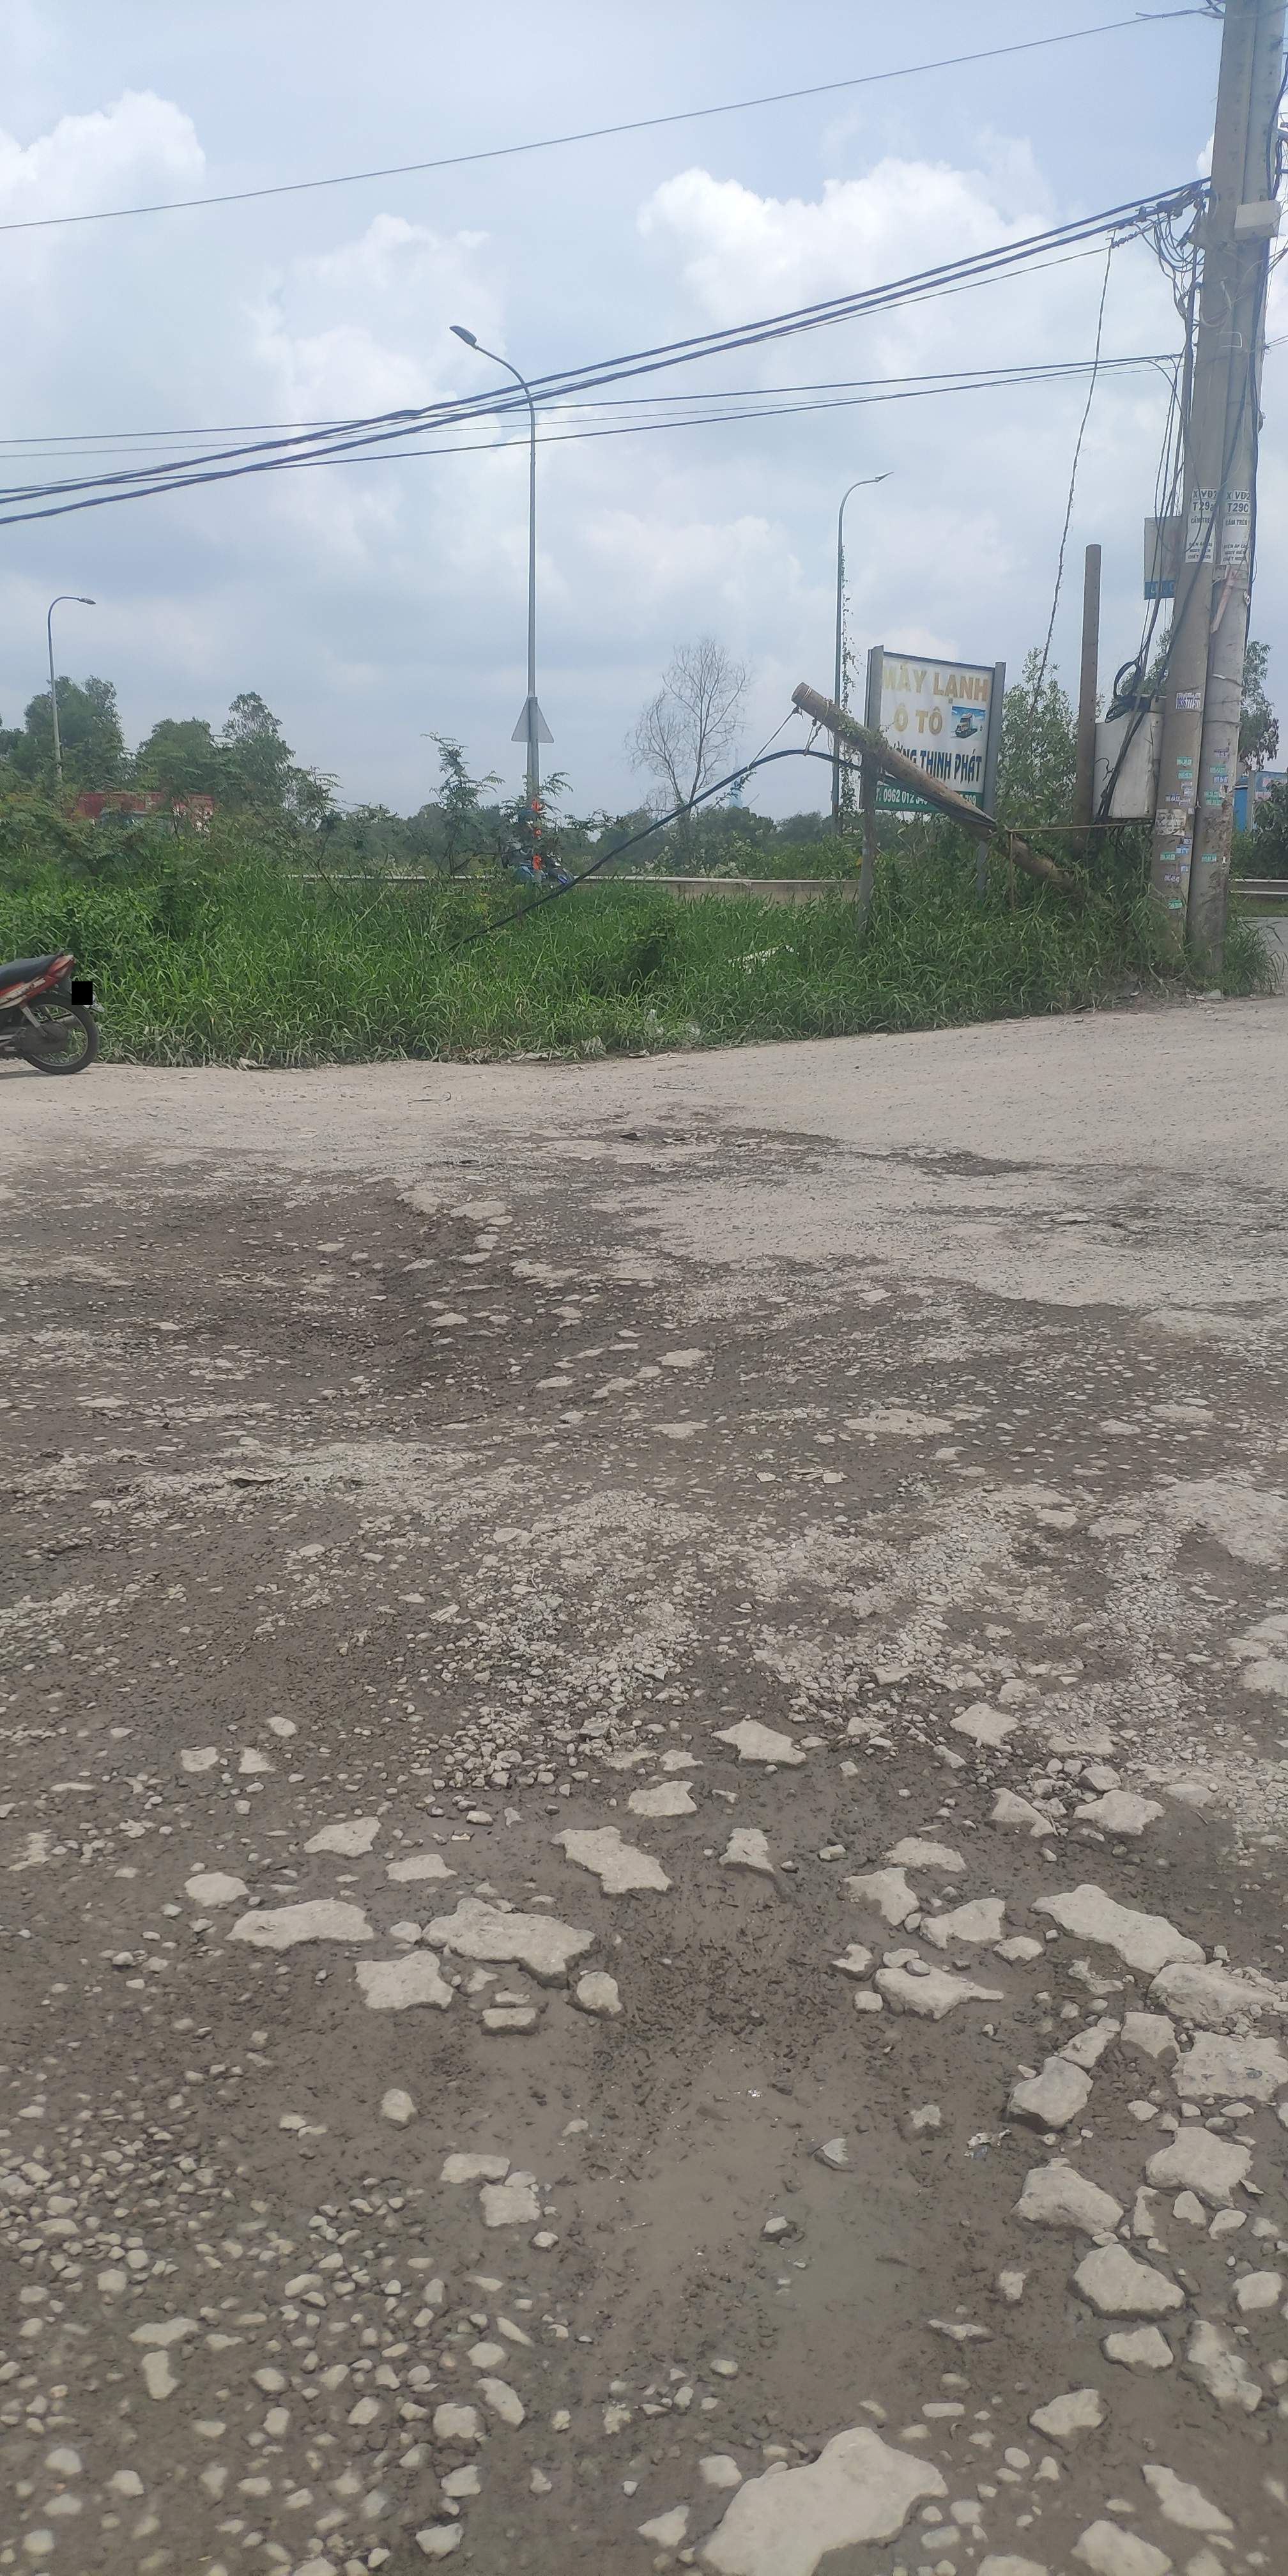hole: (462, 1886, 1078, 2422), (120, 1189, 572, 1442), (606, 1115, 844, 1161), (882, 1135, 1043, 1188)
